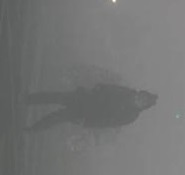person: (22, 83, 156, 132)
